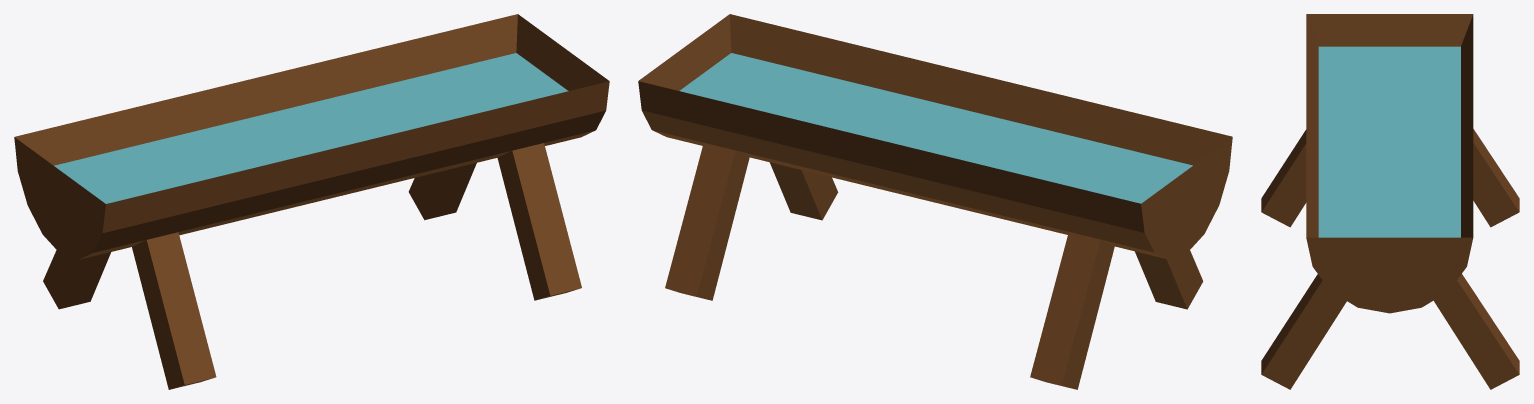
The model's file is abbeveratoio 1.fbx.
The picture shows the model from 3 angles, left to right: view 1: azimuth 30°, elevation 25°; view 2: azimuth 150°, elevation 25°; view 3: azimuth 270°, elevation 25°; orthographic projection. The views are drawn at different scales.
Visible parts, largest first — view 1: Circle; view 2: Circle; view 3: Circle.
Part boxes in pixels (x1,y1,x2,y2): Circle: [14, 14, 609, 389]; Circle: [638, 14, 1232, 389]; Circle: [1261, 14, 1519, 389].
Size of the model in its own units: 634 by 232 by 309.
